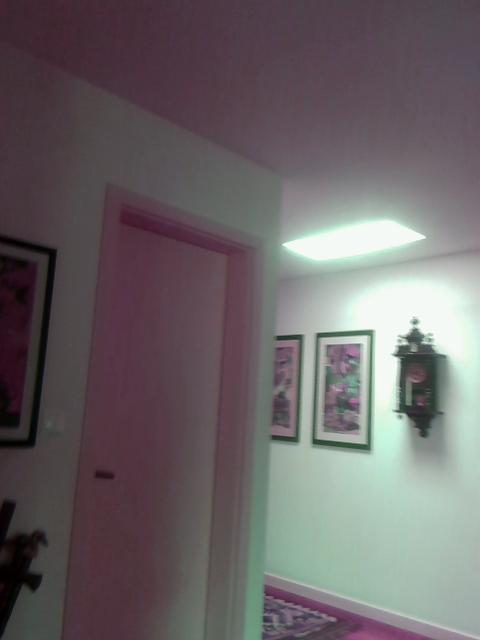closed_door: (59, 182, 259, 638)
